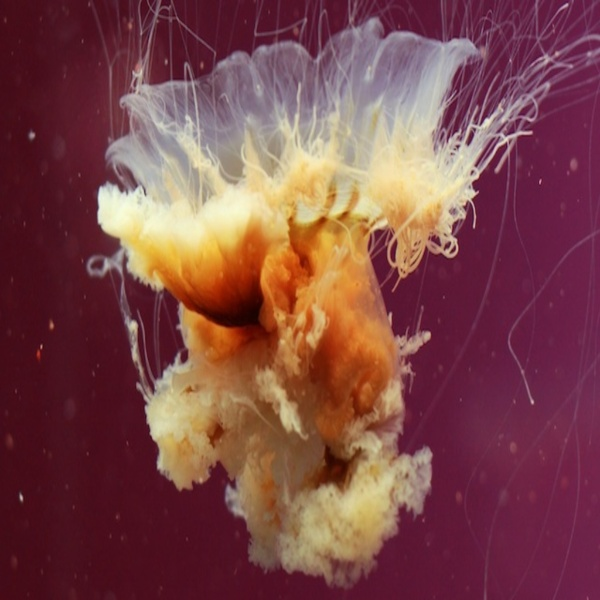Jellyfish: (86, 0, 599, 589)
